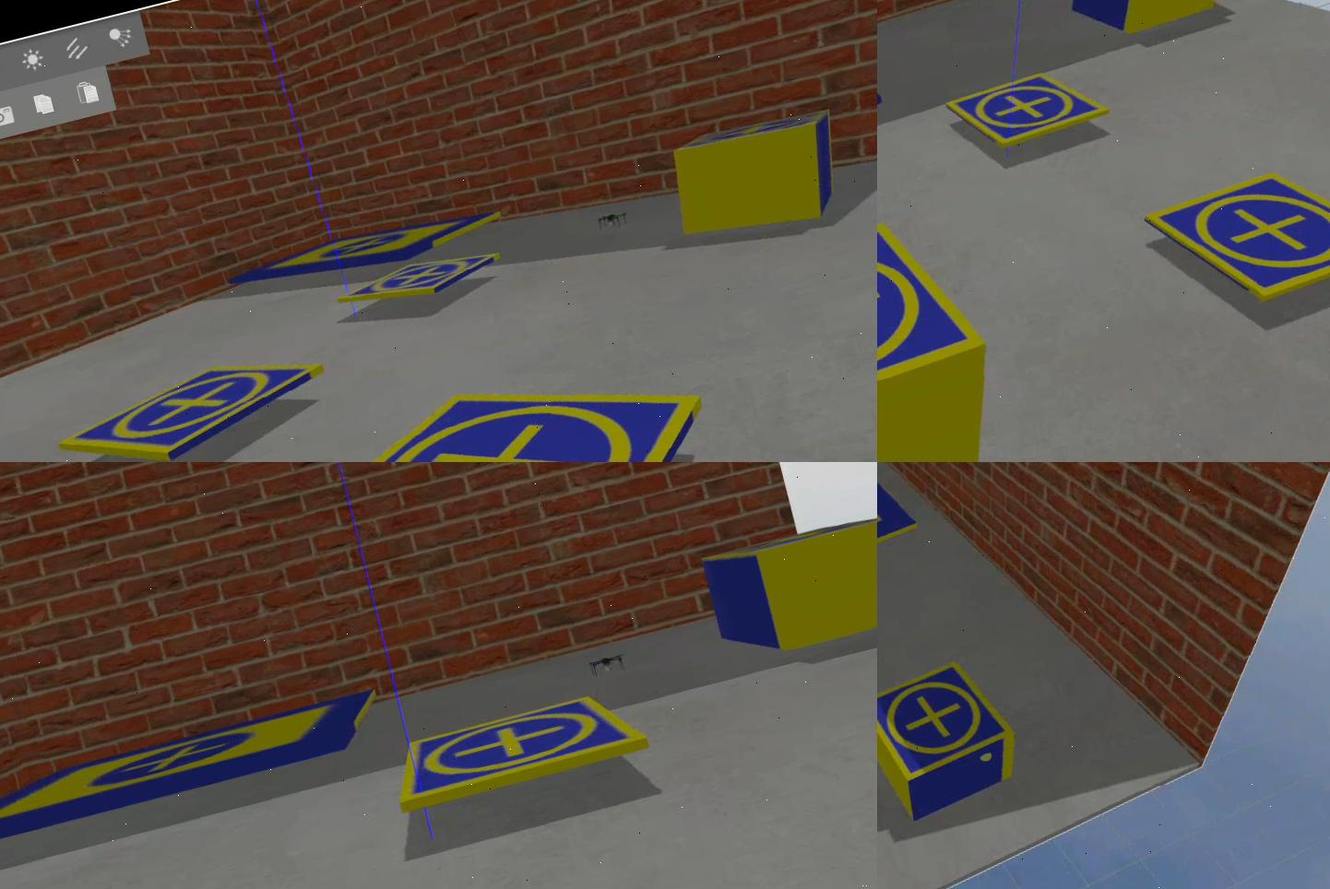large_base: (1, 693, 392, 872), (223, 194, 513, 309)
small_base: (263, 340, 748, 463), (55, 341, 338, 463), (1141, 144, 1330, 325), (388, 685, 652, 814), (878, 207, 992, 434), (878, 651, 1023, 789), (944, 58, 1113, 161), (331, 238, 512, 326), (672, 100, 841, 171)
